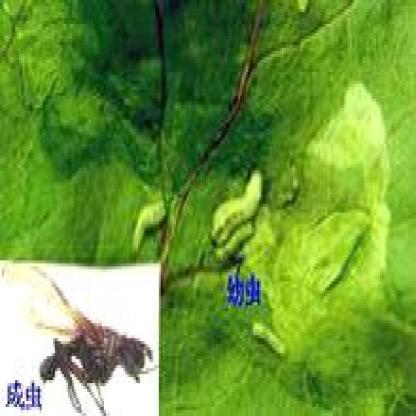whorl-maggot: (208, 164, 267, 264), (126, 182, 172, 258), (249, 312, 289, 366)
